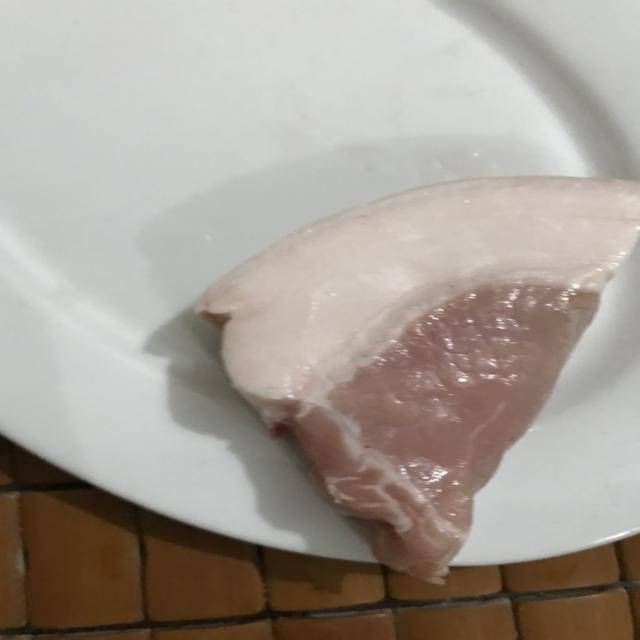chicken: (195, 178, 640, 580)
